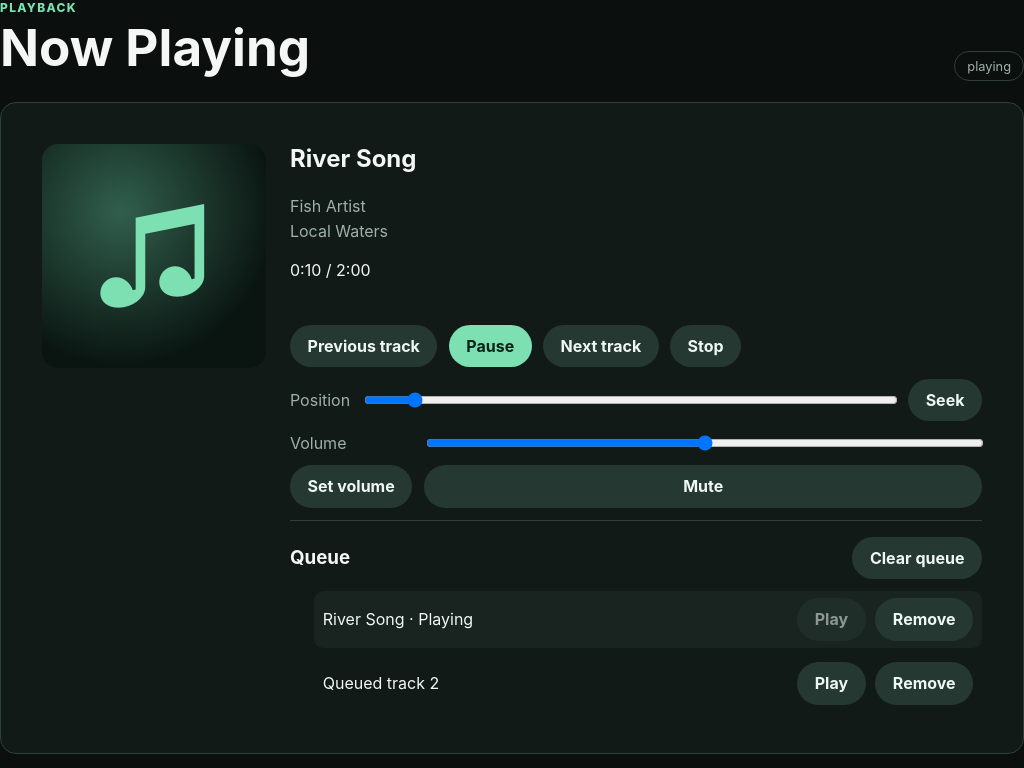
Test: complete playback controls › shows only an allow-listed structured playback message
The width and height of the screenshot is (1024, 768).
Click the button "Pause": (490,346) [449,324,532,367]
(page scrolled)
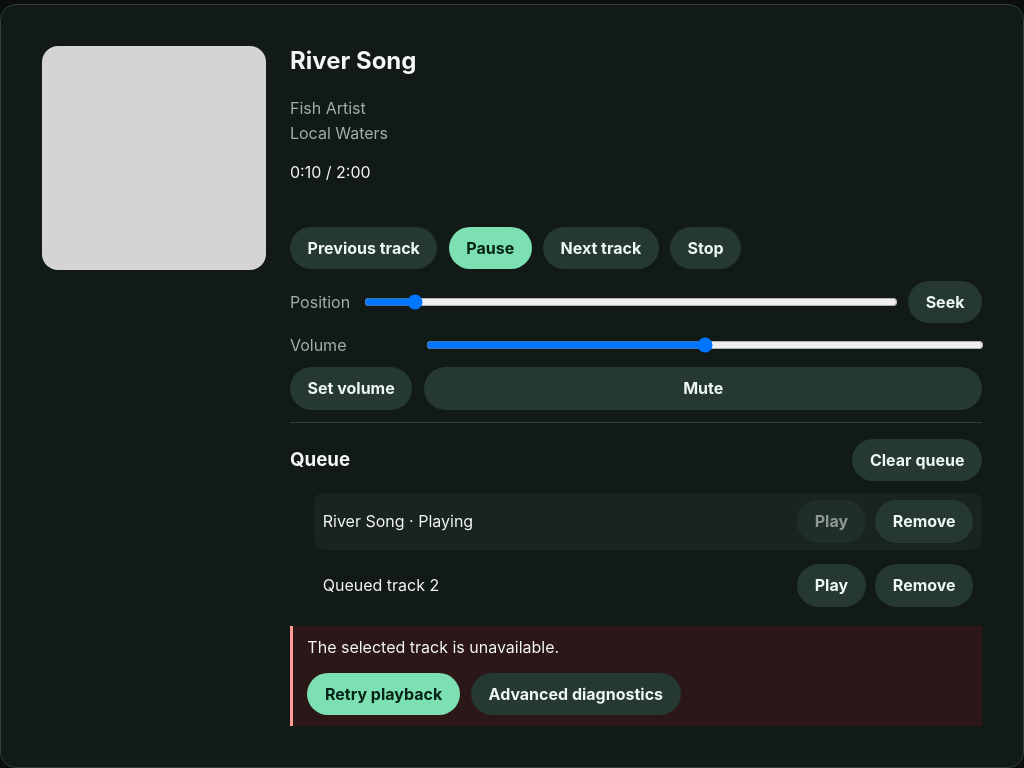
Check: the message shows "The selected track is unavailable.", box [307,637,559,657]
